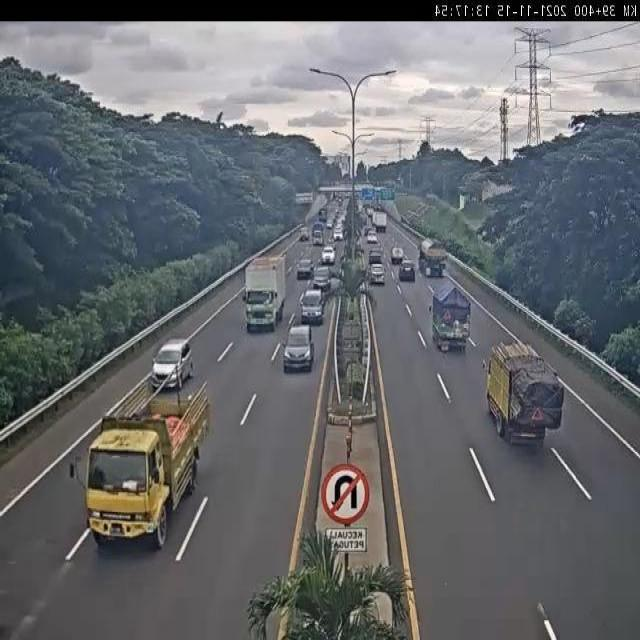Car: (150, 338, 193, 390), (280, 320, 314, 372), (299, 289, 324, 325), (312, 264, 331, 292), (296, 258, 314, 280), (398, 261, 416, 281), (369, 264, 385, 286), (390, 247, 404, 266), (322, 246, 336, 264), (369, 247, 383, 264), (336, 191, 349, 204), (333, 228, 344, 242), (299, 228, 310, 242), (365, 205, 374, 221), (313, 232, 323, 246), (367, 232, 378, 244), (356, 199, 364, 215), (356, 245, 364, 259), (326, 219, 334, 230), (332, 192, 340, 202), (376, 202, 384, 212)
Truck: (81, 379, 205, 551), (483, 338, 571, 447), (244, 253, 289, 333), (430, 282, 470, 352), (419, 238, 447, 277), (373, 211, 387, 234), (318, 207, 328, 222)
